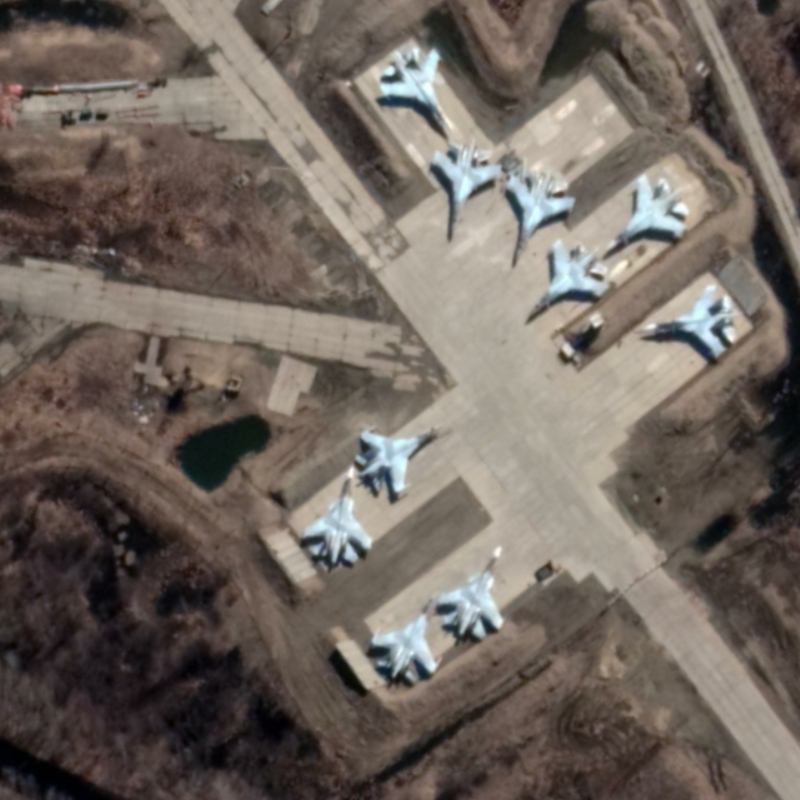A1: (630, 280, 741, 360), (601, 171, 691, 262), (429, 136, 504, 244), (523, 238, 613, 328), (504, 165, 578, 270), (350, 422, 447, 502), (377, 44, 458, 136), (368, 595, 443, 687)
A19: (298, 463, 376, 569), (434, 543, 505, 642)
